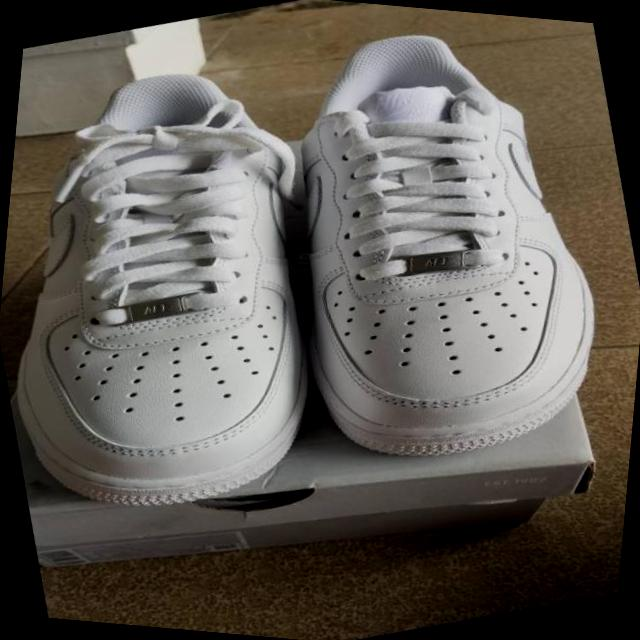nike_original_airforce: (214, 0, 640, 503), (0, 26, 393, 558)
